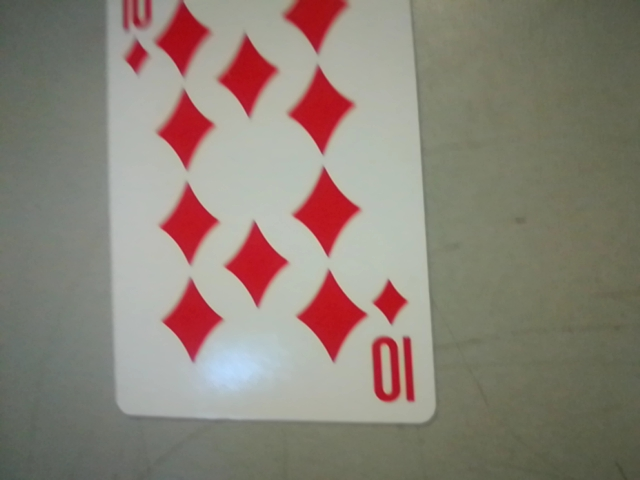fk 10: (359, 268, 427, 419)
